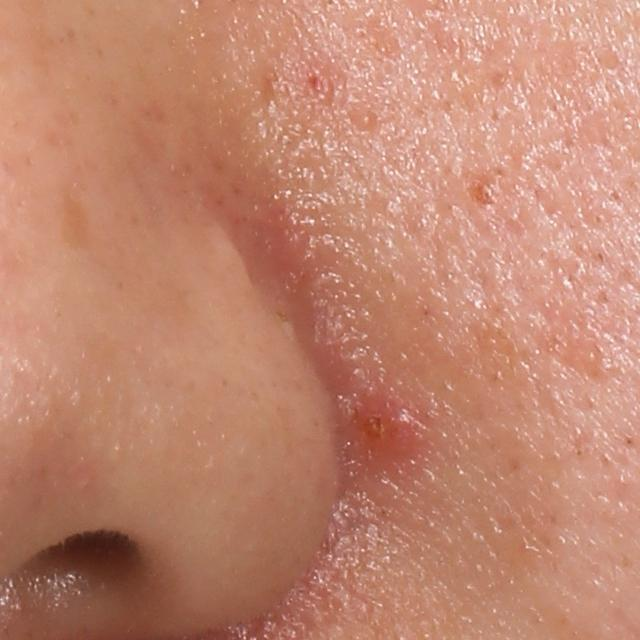comedo: (350, 108, 379, 133)
papule: (341, 382, 437, 467)
